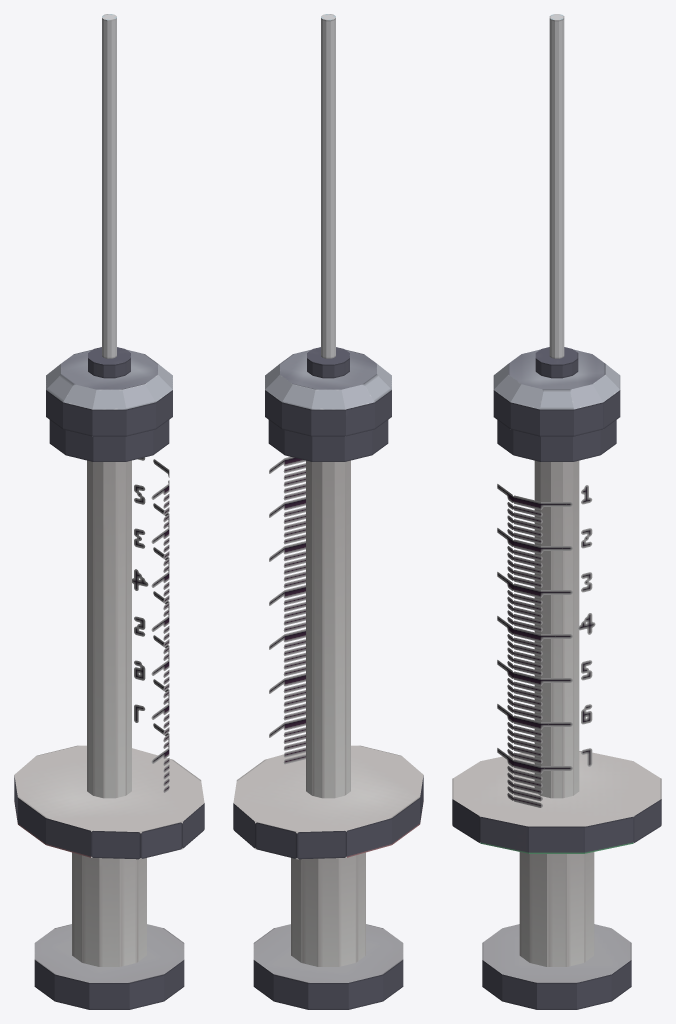
Rendered from Seringa.fbx.
3 renders of one model, left to right at view 1: azimuth 30°, elevation 25°; view 2: azimuth 150°, elevation 25°; view 3: azimuth 270°, elevation 25°, orthographic.
Visible parts, largest first — view 1: Ponta_2, tubin_3, Ponta_3, Ponta_1, tubin_1, tubin_2, Ponta_4; view 2: Ponta_2, tubin_3, Ponta_3, Ponta_1, tubin_1, tubin_2, Ponta_4; view 3: Ponta_2, Ponta_3, tubin_3, tubin_2, Ponta_1, tubin_1, Ponta_4.
Part boxes in pixels (x1,y1,x2,y2): Ponta_2: [14, 745, 204, 859]; tubin_3: [87, 409, 131, 798]; Ponta_3: [46, 14, 172, 436]; Ponta_1: [34, 924, 184, 1009]; tubin_1: [72, 852, 146, 966]; tubin_2: [132, 457, 169, 792]; Ponta_4: [49, 420, 169, 461]; Ponta_2: [233, 745, 423, 859]; tubin_3: [306, 409, 350, 798]; Ponta_3: [265, 14, 391, 436]; Ponta_1: [253, 924, 403, 1009]; tubin_1: [291, 852, 365, 966]; tubin_2: [269, 456, 305, 764]; Ponta_4: [268, 420, 388, 461]; Ponta_2: [452, 751, 661, 853]; Ponta_3: [493, 14, 620, 436]; tubin_3: [534, 460, 579, 798]; tubin_2: [497, 484, 595, 807]; Ponta_1: [482, 924, 631, 1009]; tubin_1: [519, 852, 594, 966]; Ponta_4: [497, 420, 616, 461].
Bounding box in the file's own units: 75 × 444 × 87.5.
Materials: 1 (1 with a texture image).
